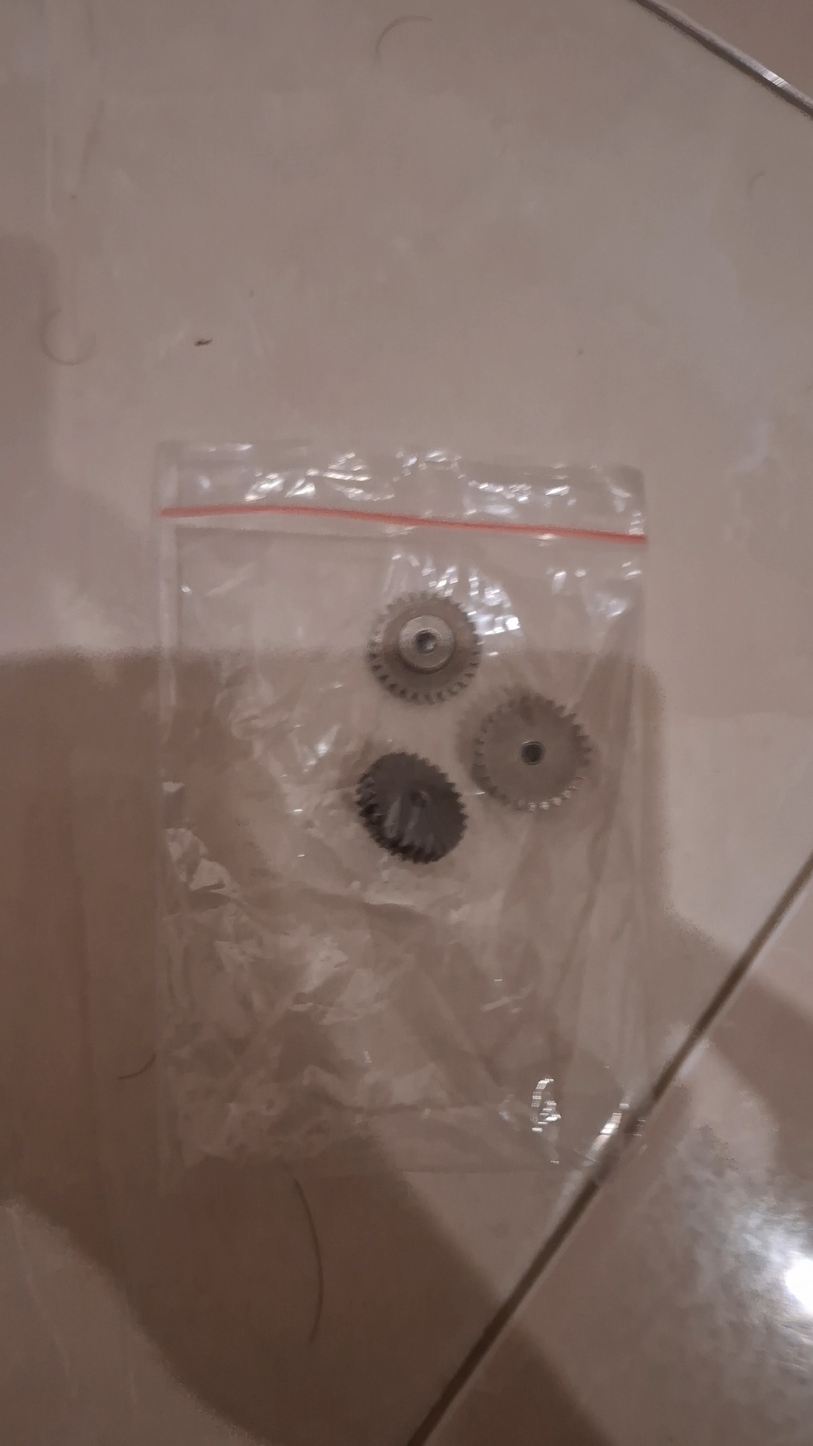spur gear: (464, 693, 593, 812), (351, 749, 470, 864), (365, 593, 483, 703)
